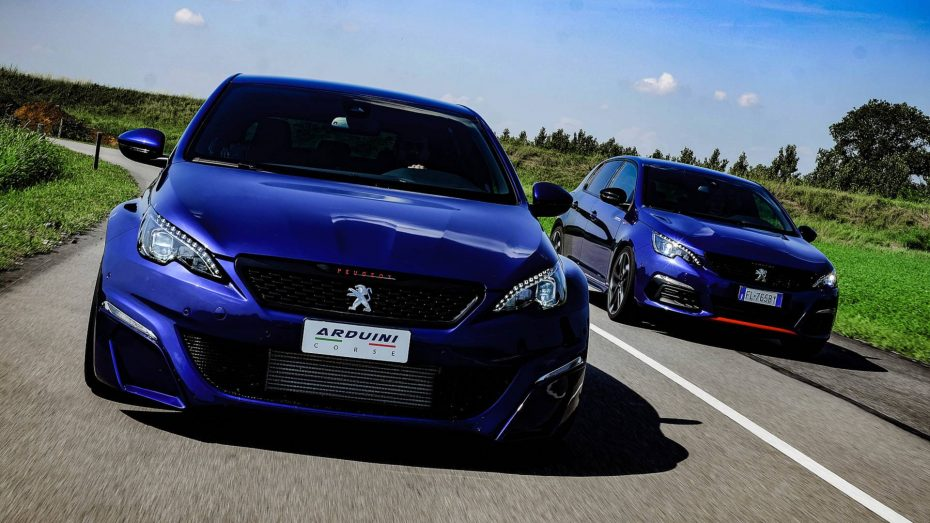car: (94, 68, 592, 460), (547, 154, 832, 346)
